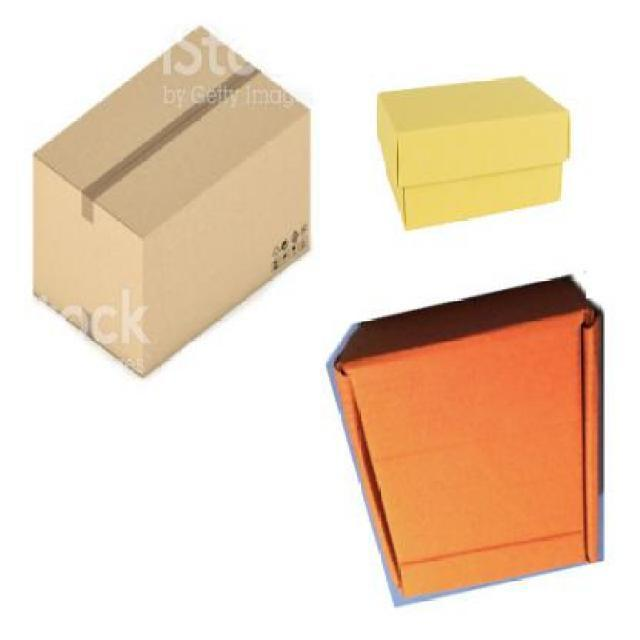box: (35, 21, 313, 382), (340, 278, 600, 598), (378, 74, 573, 230)
